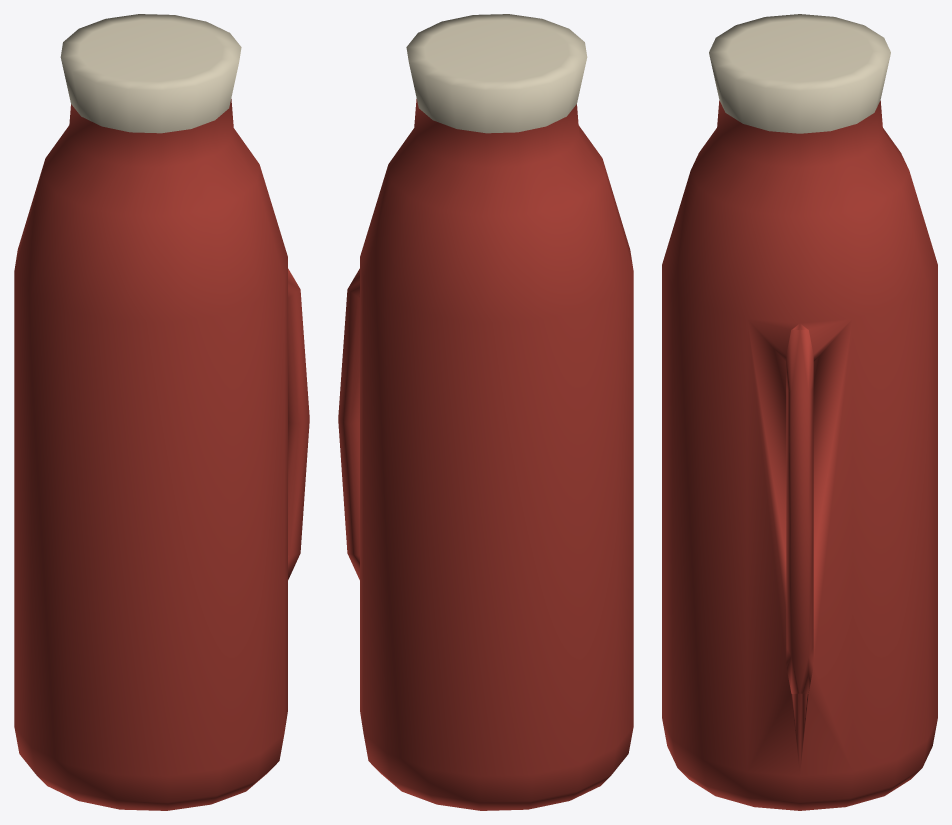
Rendered from thermos.fbx.
3 views of the same model, side by side, from view 1: azimuth 30°, elevation 25°; view 2: azimuth 150°, elevation 25°; view 3: azimuth 270°, elevation 25° (orthographic).
Visible parts, largest first — view 1: thermos; view 2: thermos; view 3: thermos.
Part boxes in pixels (left/top/right/bottom): thermos: left=14, top=14, right=309, bottom=810; thermos: left=338, top=14, right=633, bottom=810; thermos: left=662, top=14, right=937, bottom=810.
Bounding box in the file's own units: 0.1212 × 0.3 × 0.1058.
